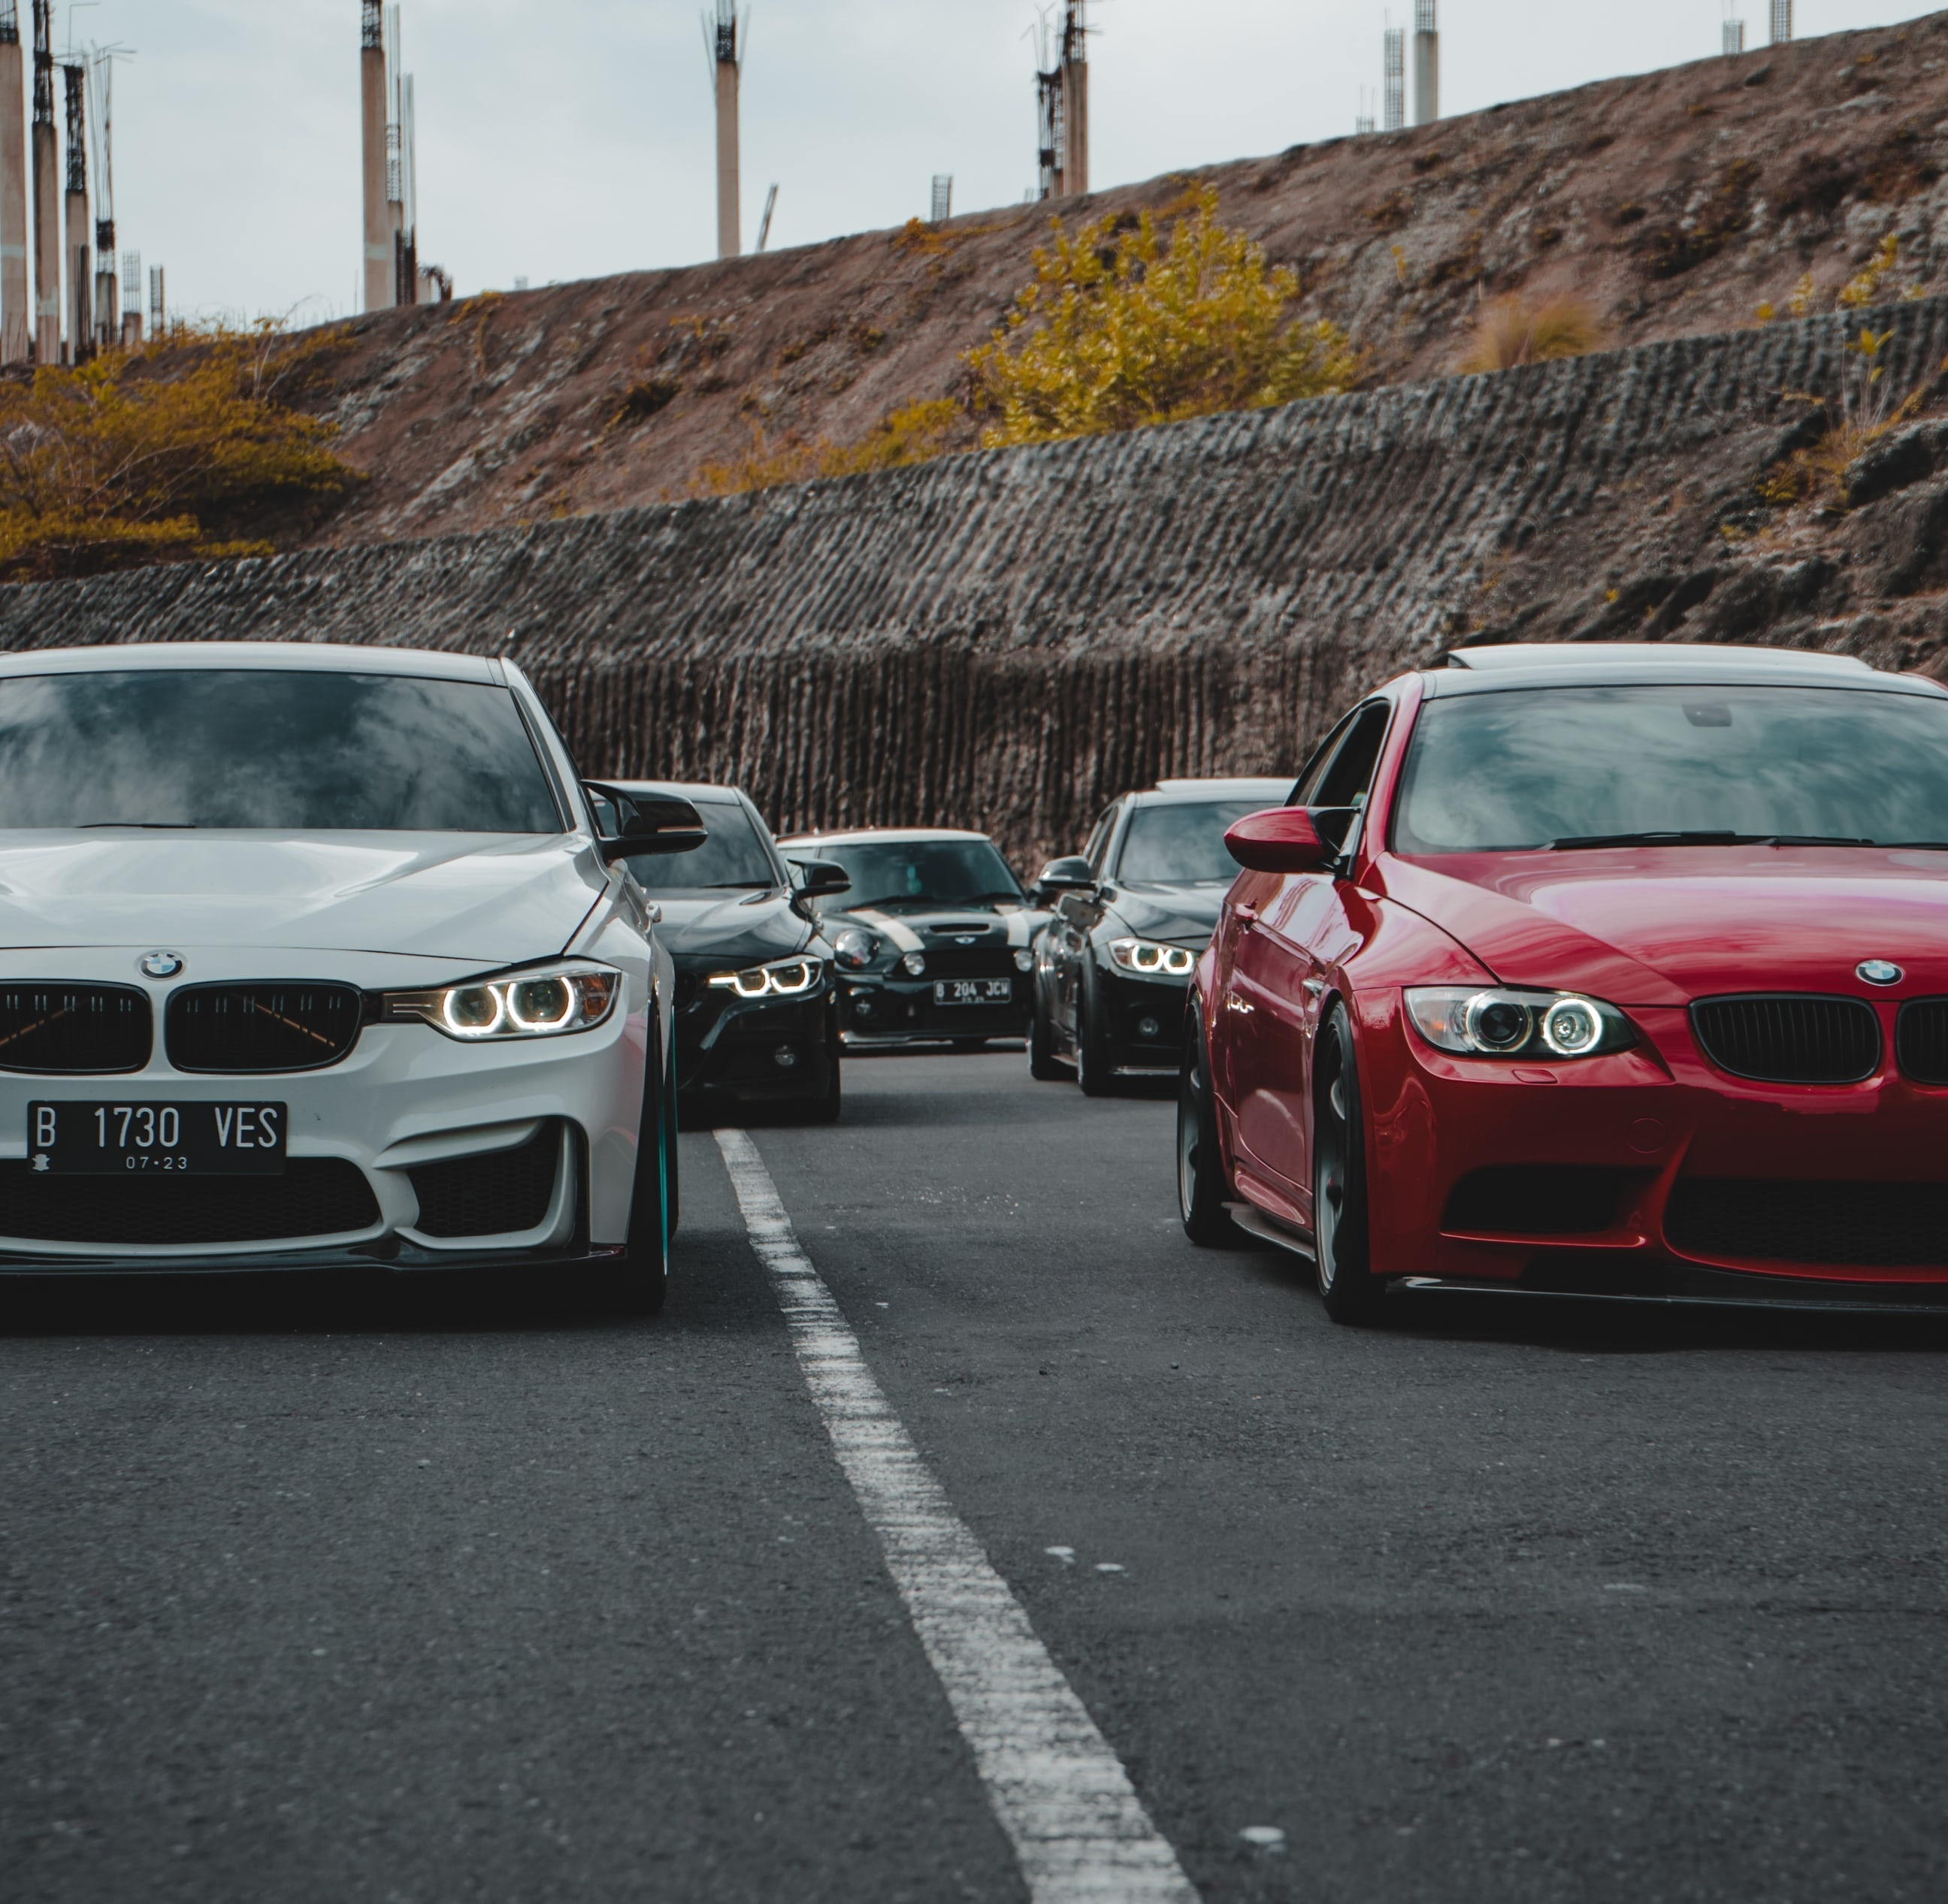plaka: (23, 1096, 286, 1158)
